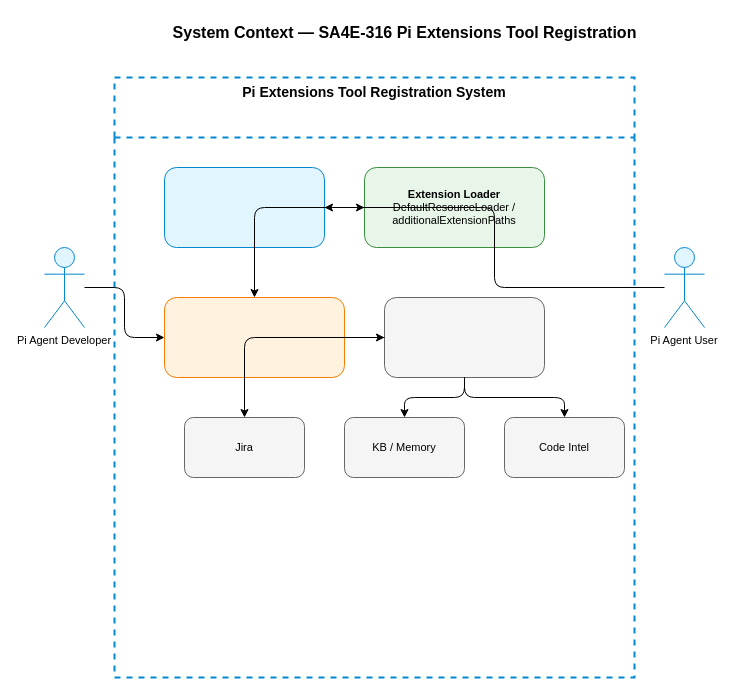
Image size: 736x695. Some labels were removed from this diagram. Each missing label, with the centre of its shape:
"MCP Wrapper Server Port 9181" goes at (x=464, y=337).
"Pi Coding Agent Session management & tool invocation" goes at (x=244, y=207).
"Pi Extensions pi.registerTool proxy to MCP 9181" goes at (x=254, y=337).
